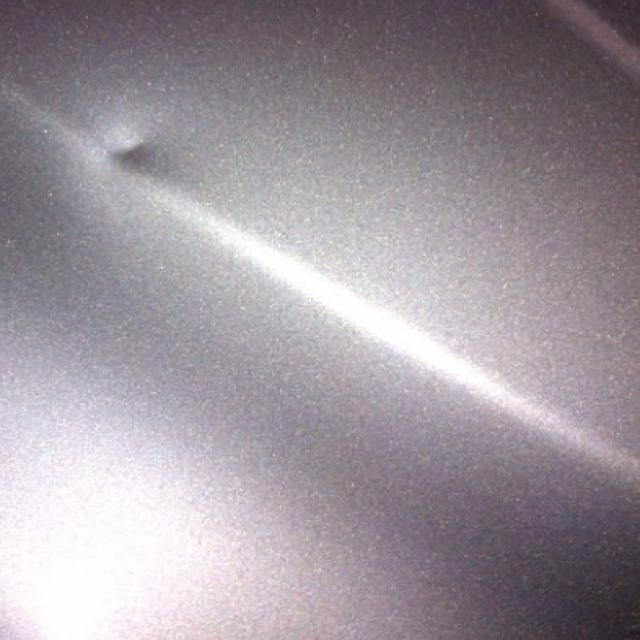dents: (96, 110, 208, 191)
